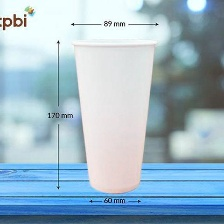paper_cup: (65, 32, 160, 196)
